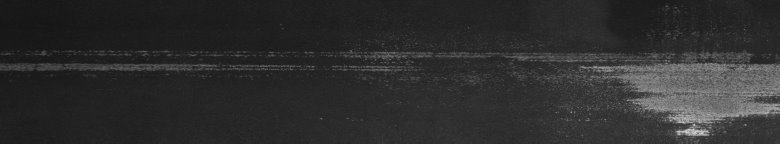kb: (540, 31, 776, 136)
